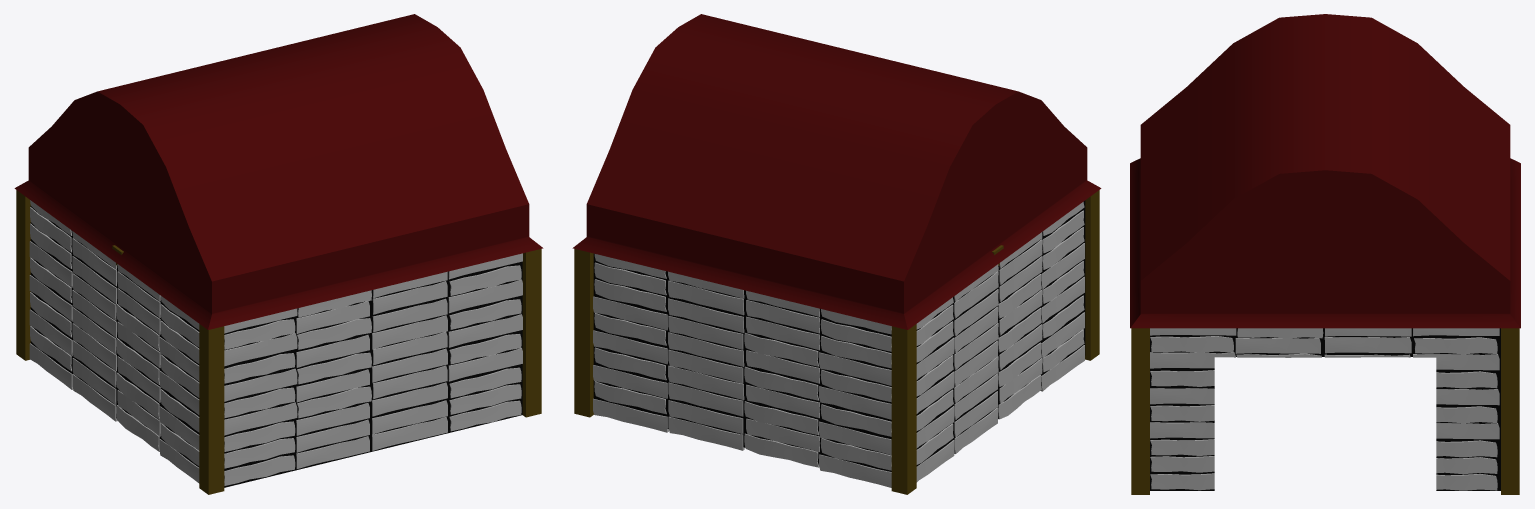
Rendered from Barn_0822.fbx.
3 views of the same model, side by side, from view 1: azimuth 30°, elevation 25°; view 2: azimuth 150°, elevation 25°; view 3: azimuth 270°, elevation 25° (orthographic).
Parts seen in each view (by area): view 1: pCube12; view 2: pCube12; view 3: pCube12.
Part boxes in pixels (x1,y1,x2,y2): pCube12: [14, 14, 543, 494]; pCube12: [572, 14, 1101, 494]; pCube12: [1130, 14, 1520, 494].
Bounding box in the file's own units: 21.15 × 19.15 × 21.15.
